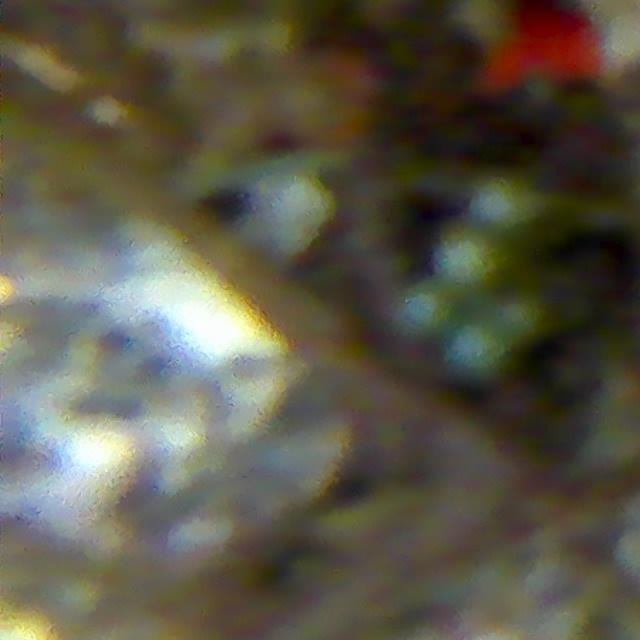SeaGrape: (433, 226, 501, 292), (445, 318, 509, 381), (393, 280, 453, 339)
